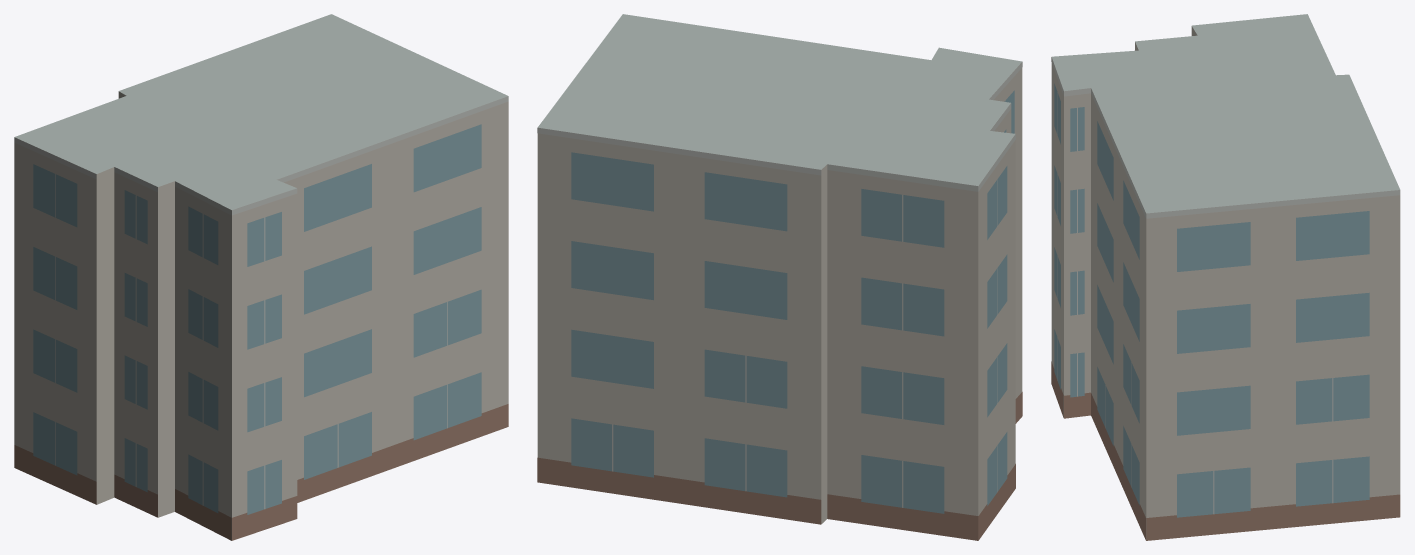
Rendered from survey-upis-32936995.glb.
3 views of the same model, side by side, from view 1: azimuth 30°, elevation 25°; view 2: azimuth 150°, elevation 25°; view 3: azimuth 270°, elevation 25° (orthographic). The views are drawn at different scales.
Visible parts, largest first — view 1: survey-upis-32936995.tmp; view 2: survey-upis-32936995.tmp; view 3: survey-upis-32936995.tmp.
Part boxes in pixels (x1=…): survey-upis-32936995.tmp: x1=14, y1=14, x2=508, y2=540; survey-upis-32936995.tmp: x1=537, y1=14, x2=1022, y2=540; survey-upis-32936995.tmp: x1=1051, y1=14, x2=1400, y2=540.
Size of the model in its own units: 19.82 by 15.16 by 14.65.
